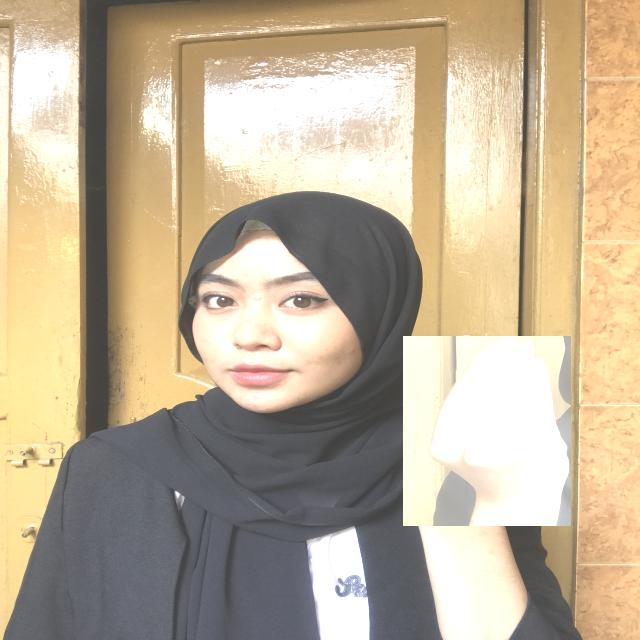kapan: (403, 336, 571, 526)
